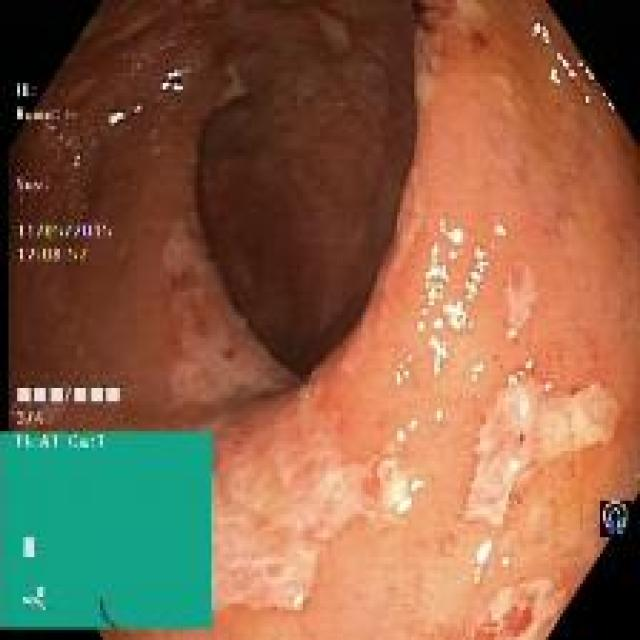ulcerative-colitis-grade-1: (210, 3, 640, 639)
